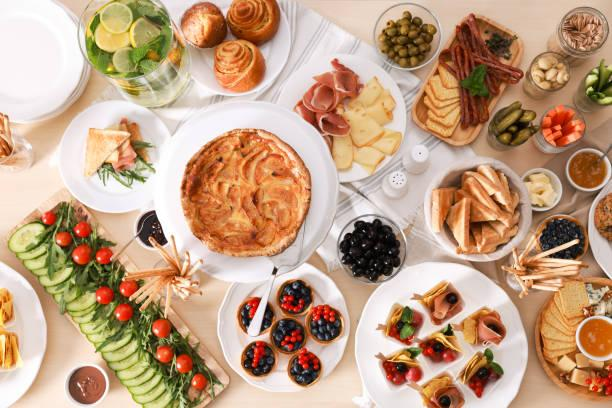Braised Crucian Carp: (157, 103, 341, 282), (352, 262, 527, 407), (216, 261, 345, 393), (277, 49, 400, 183), (410, 12, 525, 148), (58, 100, 170, 212), (165, 0, 288, 97), (423, 158, 532, 261), (533, 279, 612, 402)
